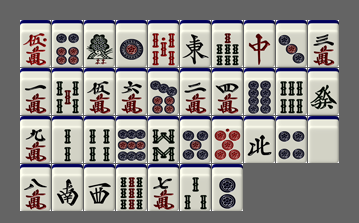0m: (20, 20, 51, 67)
0p: (212, 116, 243, 163)
0s: (148, 20, 179, 67)
1m: (20, 68, 51, 115)
1p: (116, 20, 147, 67)
1s: (84, 20, 115, 67)
1z: (180, 20, 211, 67)
2m: (180, 68, 211, 115)
2p: (212, 164, 243, 211)
2s: (52, 116, 83, 163)
2z: (52, 164, 83, 211)
3m: (308, 20, 339, 67)
3p: (276, 20, 307, 67)
3s: (180, 164, 211, 211)
3z: (84, 164, 115, 211)
4m: (212, 68, 243, 115)
4p: (276, 116, 307, 163)
4s: (84, 116, 115, 163)
4z: (244, 116, 275, 163)
5m: (84, 68, 115, 115)
5p: (180, 116, 211, 163)
5s: (52, 68, 83, 115)
5z: (308, 116, 339, 163)
6m: (116, 68, 147, 115)
6p: (52, 20, 83, 67)
6s: (276, 68, 307, 115)
6z: (308, 68, 339, 115)
7m: (148, 164, 179, 211)
7p: (148, 68, 179, 115)
7s: (212, 20, 243, 67)
7z: (244, 20, 275, 67)
8m: (20, 164, 51, 211)
8p: (244, 68, 275, 115)
8s: (148, 116, 179, 163)
9m: (20, 116, 51, 163)
9p: (116, 116, 147, 163)
9s: (116, 164, 147, 211)
